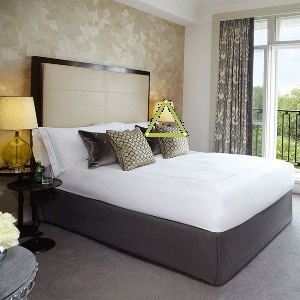triangle: (140, 97, 193, 140)
